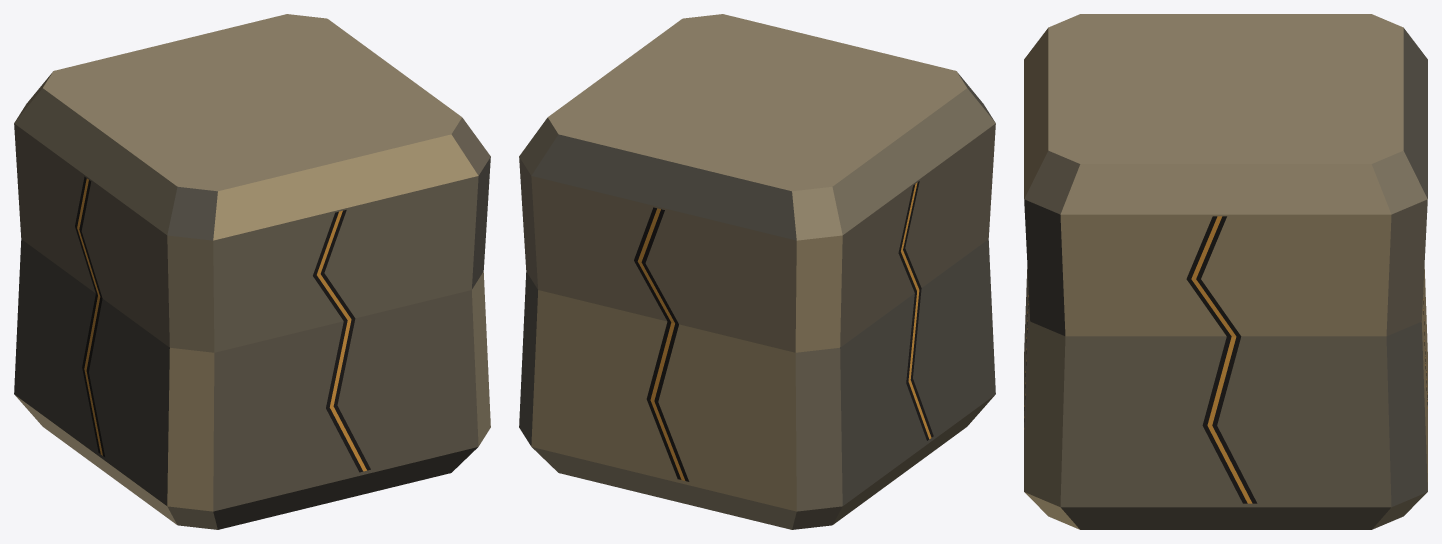
Rendered from RailHazardBlock.obj.
3 renders of one model, left to right at view 1: azimuth 30°, elevation 25°; view 2: azimuth 150°, elevation 25°; view 3: azimuth 270°, elevation 25°, orthographic. The views are drawn at different scales.
Visible parts, largest first — view 1: RailHazardBlock; view 2: RailHazardBlock; view 3: RailHazardBlock.
Part boxes in pixels (<box>): RailHazardBlock: <box>14,14,490,529</box>; RailHazardBlock: <box>519,14,995,529</box>; RailHazardBlock: <box>1024,14,1427,529</box>.
Size of the model in its own units: 2 by 2 by 2.
Materials: 1 (1 with a texture image).
